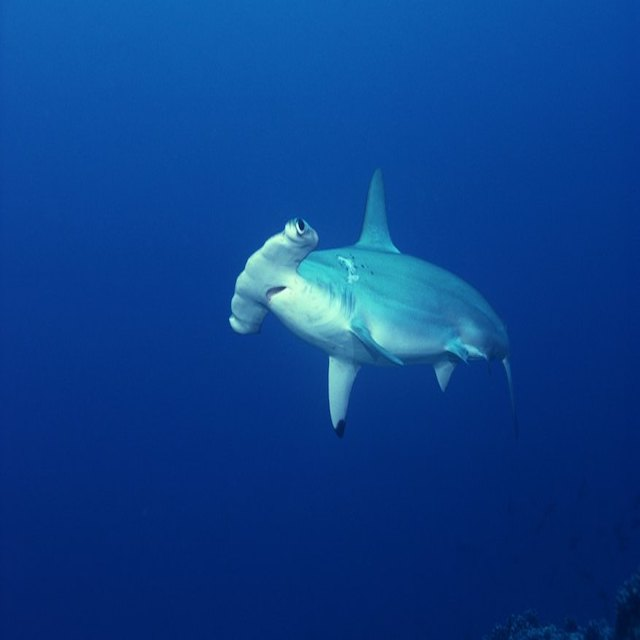hammerhead: (167, 185, 483, 407)
